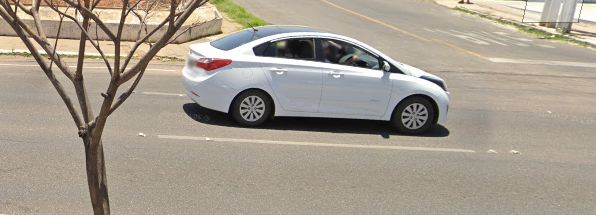car: (179, 16, 460, 141)
